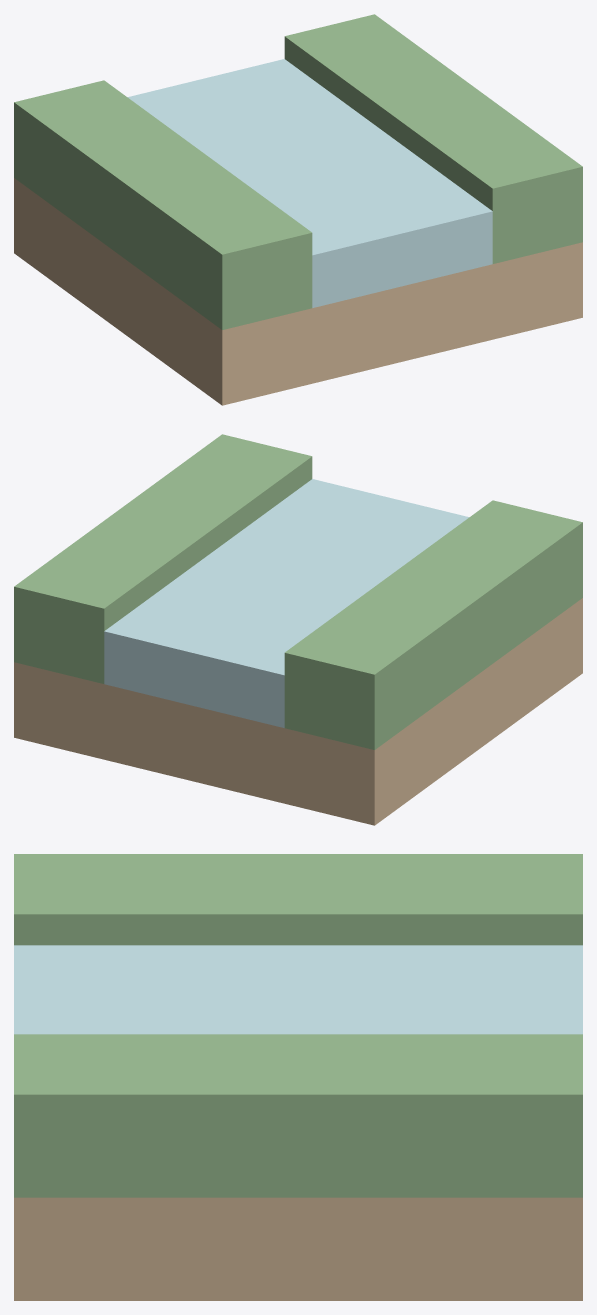
Rendered from tower-defense-classic--tile-079.glb.
3 renders of one model, top to bottom at view 1: azimuth 30°, elevation 25°; view 2: azimuth 150°, elevation 25°; view 3: azimuth 270°, elevation 25°, orthographic. The views are drawn at different scales.
Visible parts, largest first — view 1: tile_079; view 2: tile_079; view 3: tile_079.
Part boxes in pixels (x1,y1,x2,y2): tile_079: (14, 14, 582, 405); tile_079: (14, 434, 582, 825); tile_079: (14, 854, 582, 1300).
Size of the model in its own units: 1 by 0.4 by 1.
